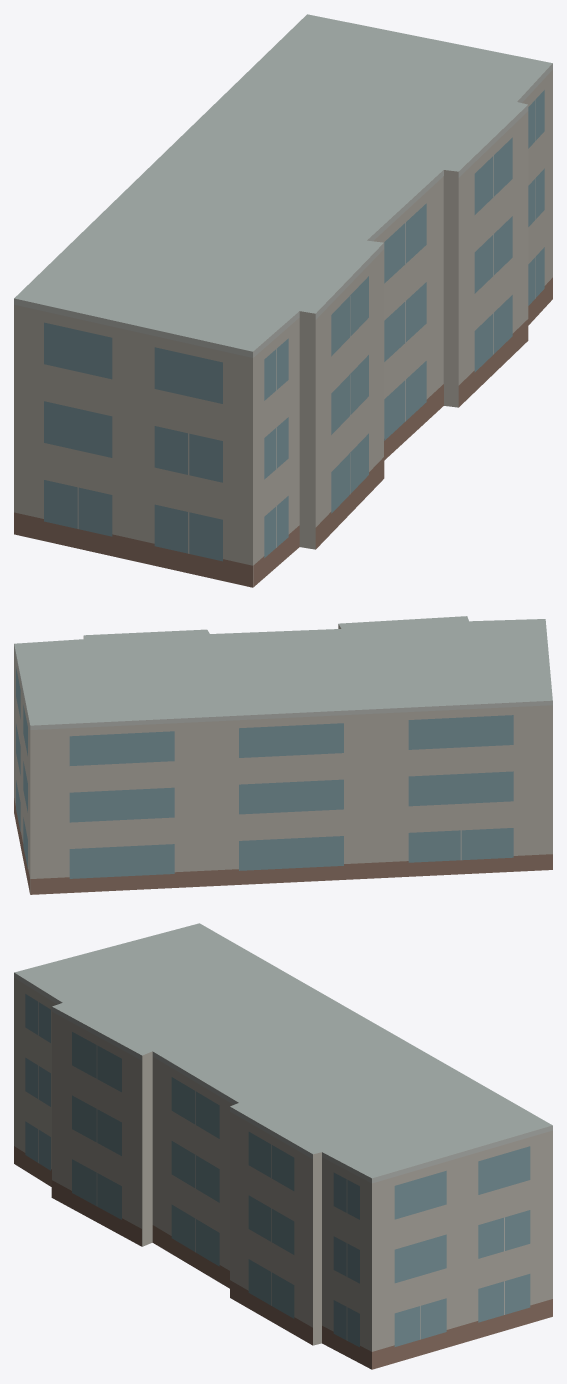
The model's file is survey-upis-32877858.glb.
3 renders of one model, top to bottom at view 1: azimuth 30°, elevation 25°; view 2: azimuth 150°, elevation 25°; view 3: azimuth 270°, elevation 25°, orthographic. The views are drawn at different scales.
Parts seen in each view (by area): view 1: survey-upis-32877858.tmp; view 2: survey-upis-32877858.tmp; view 3: survey-upis-32877858.tmp.
Boxes of the visible parts, x1,y1,x2,y2 form: survey-upis-32877858.tmp: (14,14,552,587); survey-upis-32877858.tmp: (14,616,552,894); survey-upis-32877858.tmp: (14,923,552,1369).
Size of the model in its own units: 26.19 by 9.15 by 23.37.
